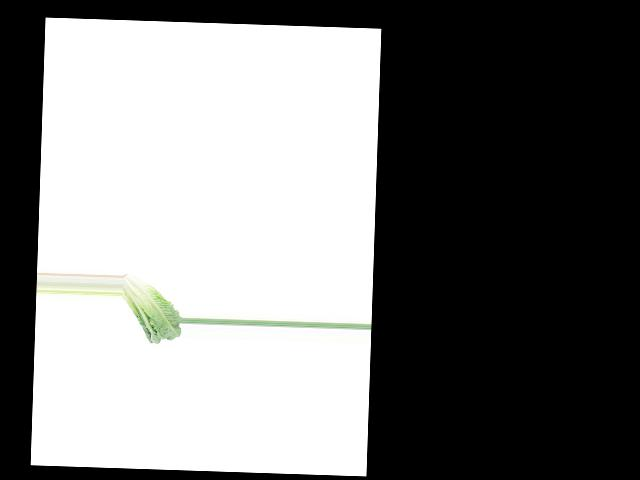lettuce: (120, 272, 182, 345)
